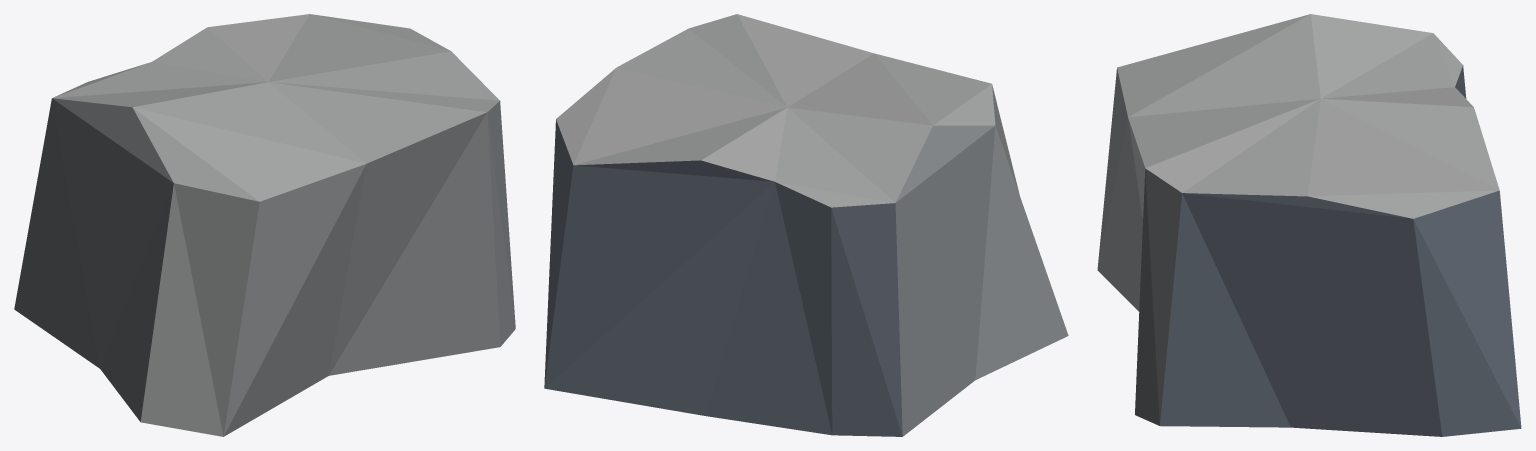
The model's file is rock_small.glb.
The picture shows the model from 3 angles, left to right: view 1: azimuth 30°, elevation 25°; view 2: azimuth 150°, elevation 25°; view 3: azimuth 270°, elevation 25°; orthographic projection. The views are drawn at different scales.
Parts seen in each view (by area): view 1: rock_small; view 2: rock_small; view 3: rock_small.
Boxes of the visible parts, x1=… form: rock_small: x1=14, y1=14, x2=515, y2=436; rock_small: x1=544, y1=14, x2=1068, y2=436; rock_small: x1=1097, y1=14, x2=1521, y2=436.
Bounding box in the file's own units: 0.8368 × 0.529 × 0.7556.
